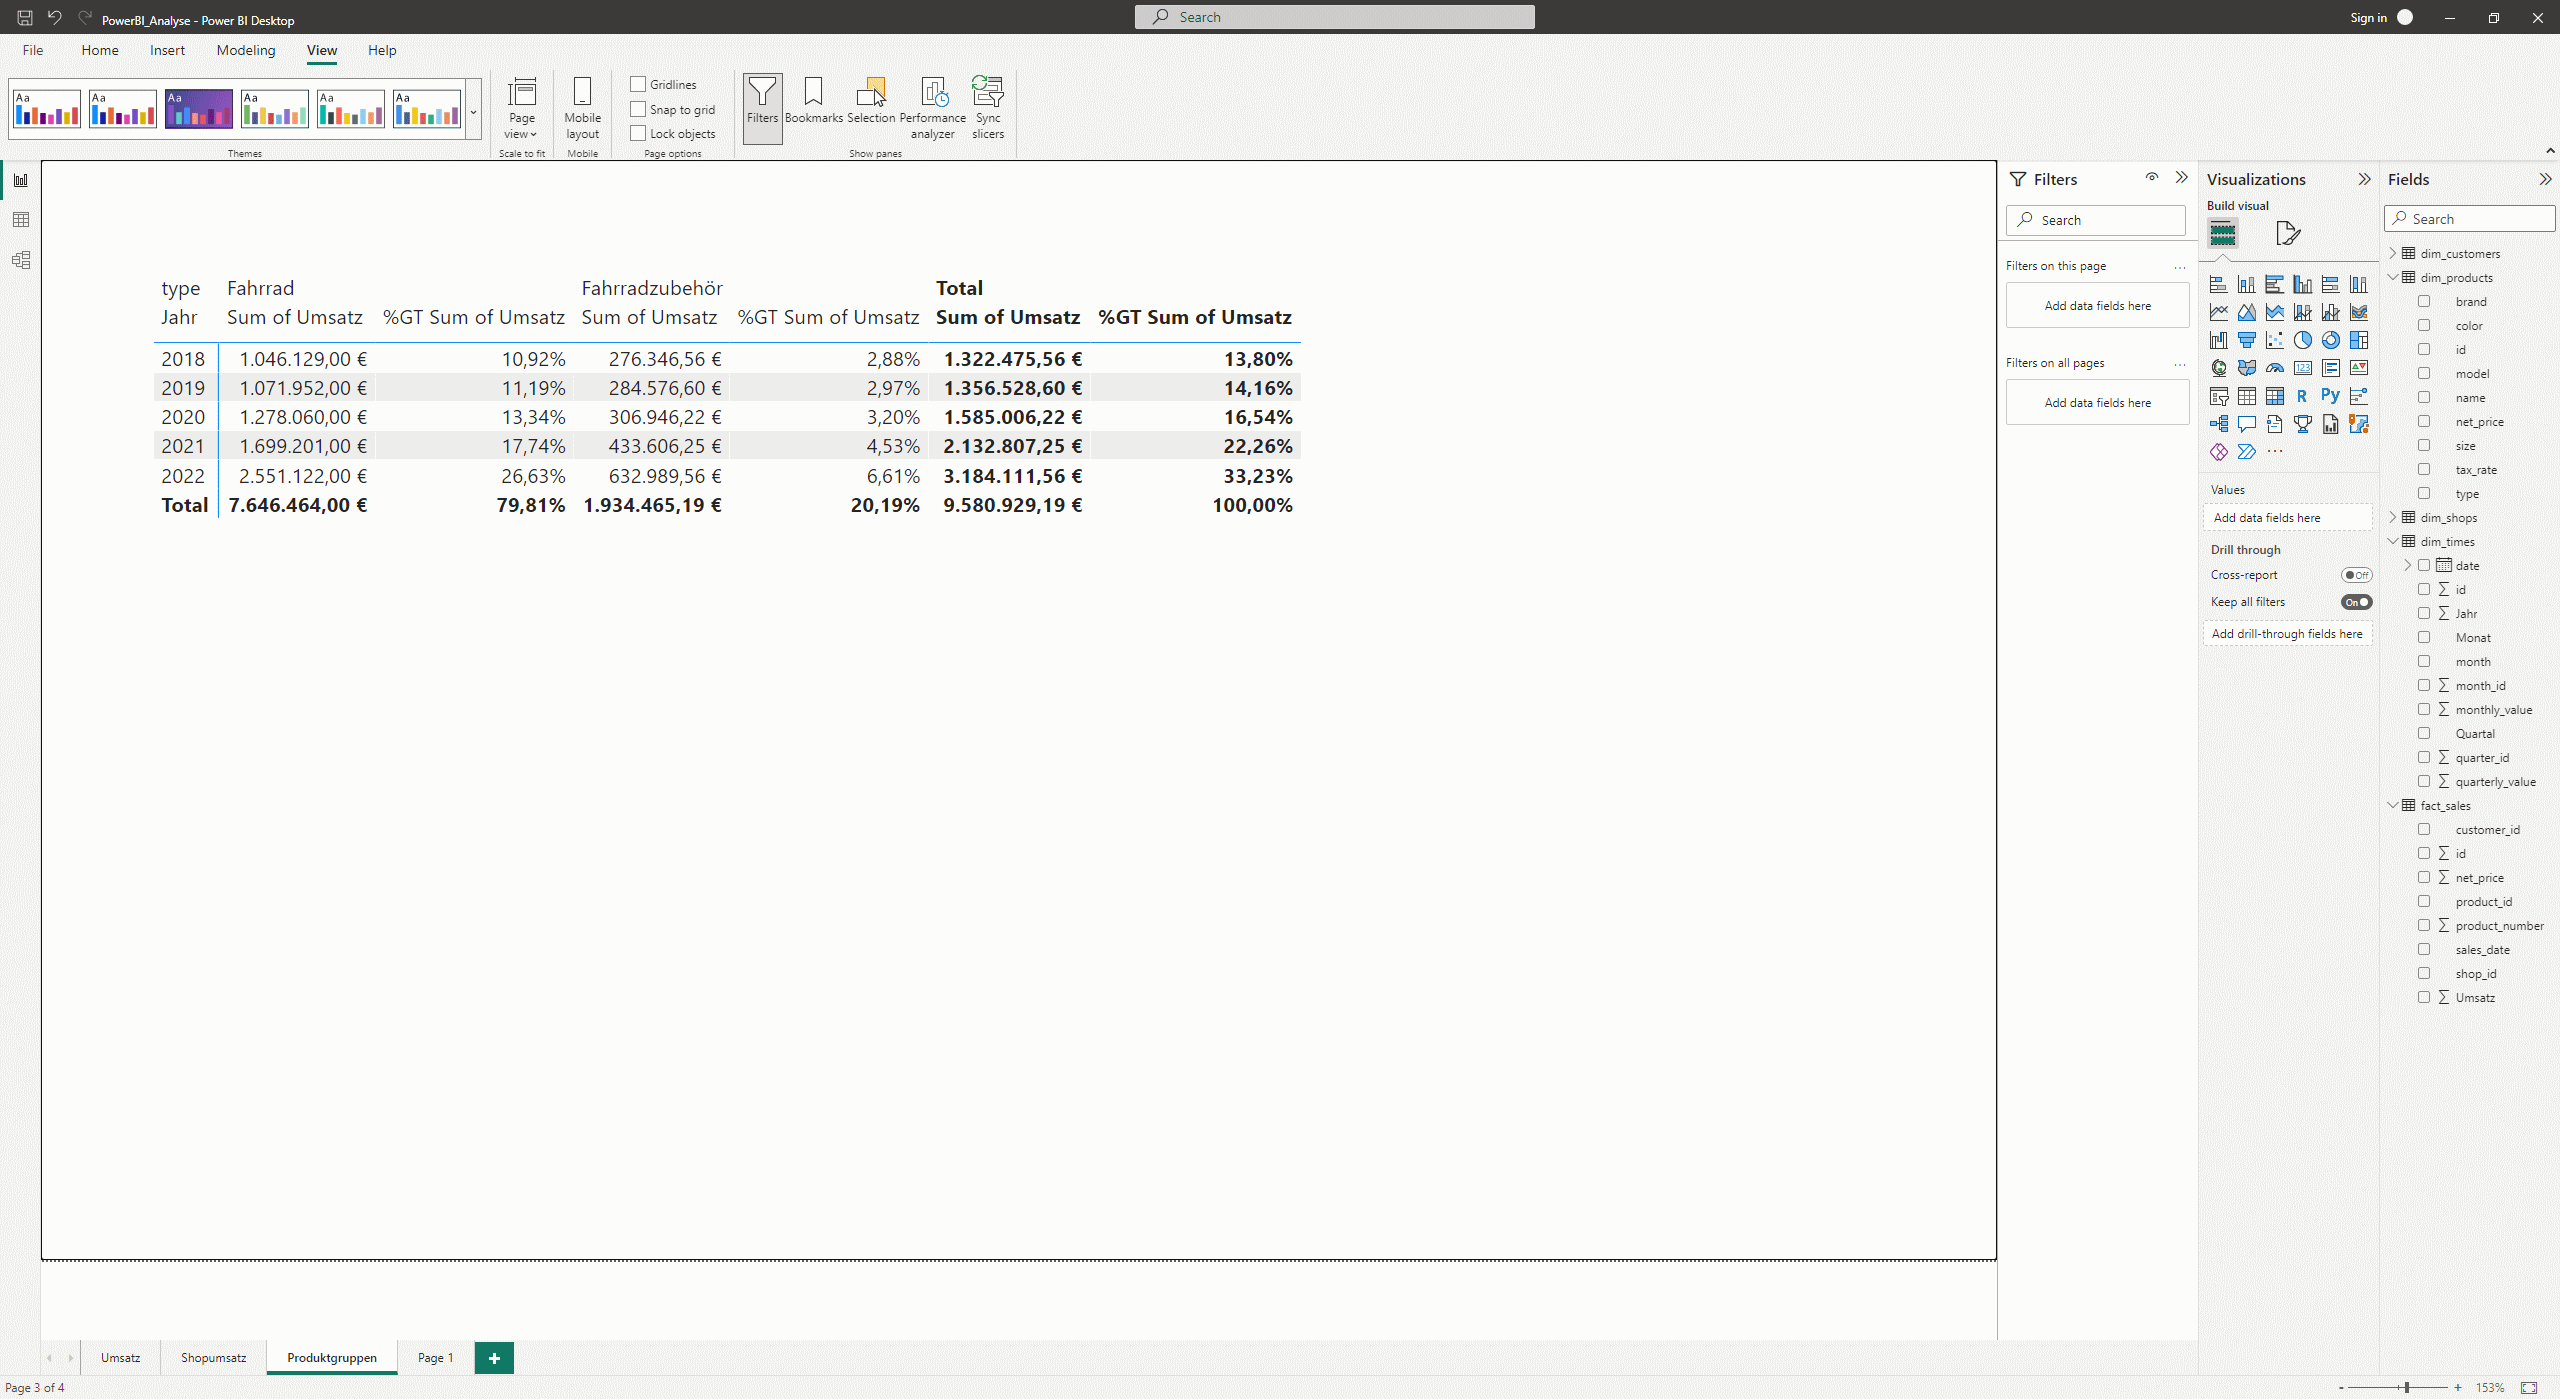

The page's visual inventory and layout, read from the dashboard file:
{"tool":"powerbi","page":{"name":"Produktgruppen","canvas":[1280,720],"ordinal":2},"visuals":[{"type":"pivotTable","fields":{"Columns":["dim_products.type"],"Rows":["dim_times.Jahr"],"Values":["Sum(fact_sales.Umsatz)","Divide(Sum(fact_sales.Umsatz), ScopedEval(Sum(fact_sales.Umsatz), []))"]},"box":[68.9,68.2,770.6,199.3],"z":0}]}

Visuals, with their boxes on the page's 1280x720 design canvas (x1, y1, x2, y2). These are canvas units, not pixel positions in the 2560x1399 screenshot, which may show the page scaled, cropped or inside an application window:
pivotTable - dim_products.type x dim_times.Jahr: select_region(69, 68, 840, 268)
